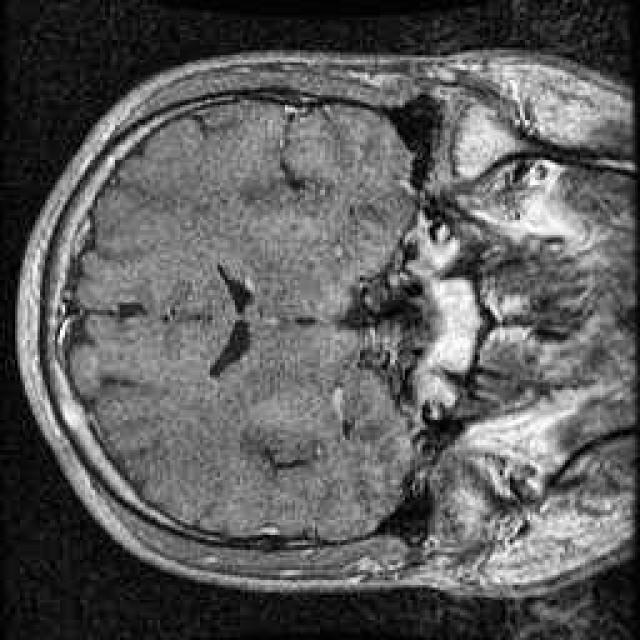Tumor: (388, 205, 495, 448)
